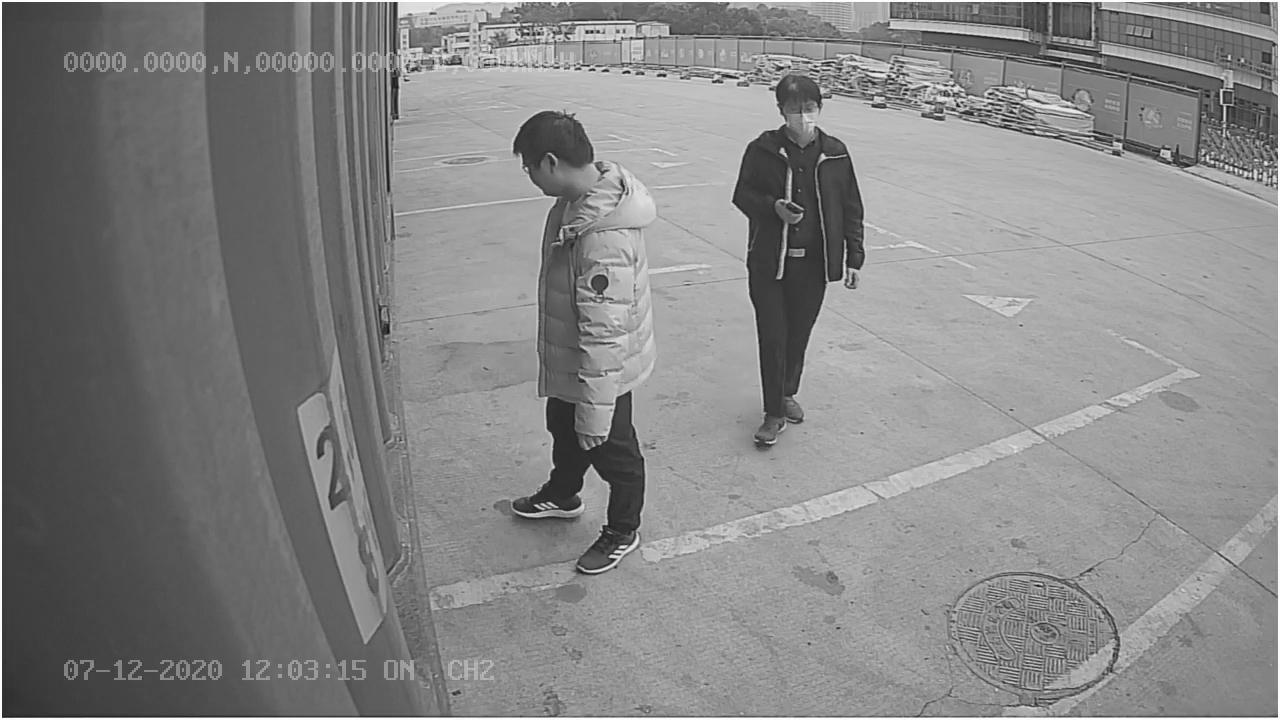person: (506, 101, 664, 579), (729, 73, 868, 450)
